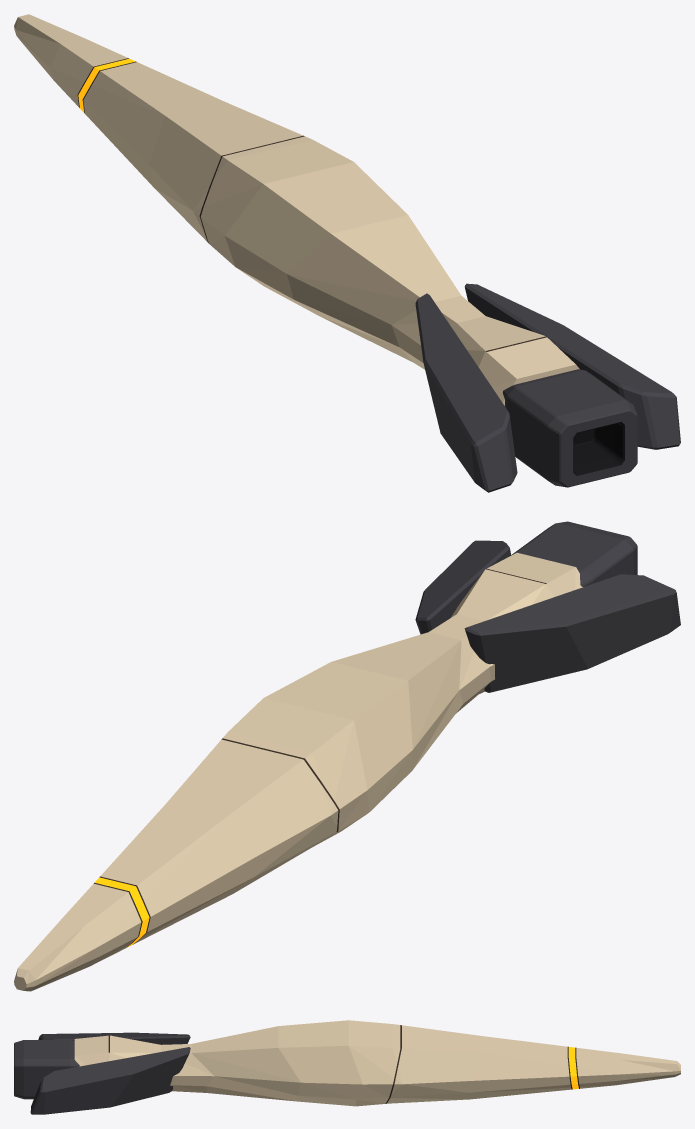
The model's file is C-Pinch.fbx.
3 views of the same model, one above another, from view 1: azimuth 30°, elevation 25°; view 2: azimuth 150°, elevation 25°; view 3: azimuth 270°, elevation 25° (orthographic). The views are drawn at different scales.
Parts seen in each view (by area): view 1: Pinch • hull, Pinch • square exhaust, Pinch • port fin, Pinch • starboard fin; view 2: Pinch • hull, Pinch • port fin, Pinch • square exhaust, Pinch • starboard fin; view 3: Pinch • hull, Pinch • starboard fin, Pinch • square exhaust, Pinch • port fin.
Part boxes in pixels (x1=…): Pinch • hull: x1=14, y1=14, x2=579, y2=405; Pinch • square exhaust: x1=503, y1=369, x2=637, y2=487; Pinch • port fin: x1=415, y1=293, x2=517, y2=492; Pinch • starboard fin: x1=464, y1=283, x2=680, y2=449; Pinch • hull: x1=14, y1=552, x2=582, y2=991; Pinch • port fin: x1=464, y1=574, x2=680, y2=692; Pinch • square exhaust: x1=509, y1=521, x2=637, y2=586; Pinch • starboard fin: x1=415, y1=540, x2=510, y2=634; Pinch • hull: x1=74, y1=1020, x2=680, y2=1106; Pinch • starboard fin: x1=30, y1=1047, x2=190, y2=1114; Pinch • square exhaust: x1=14, y1=1040, x2=79, y2=1099; Pinch • port fin: x1=38, y1=1032, x2=190, y2=1044.
Size of the model in its own units: 112 by 57.5 by 556.
